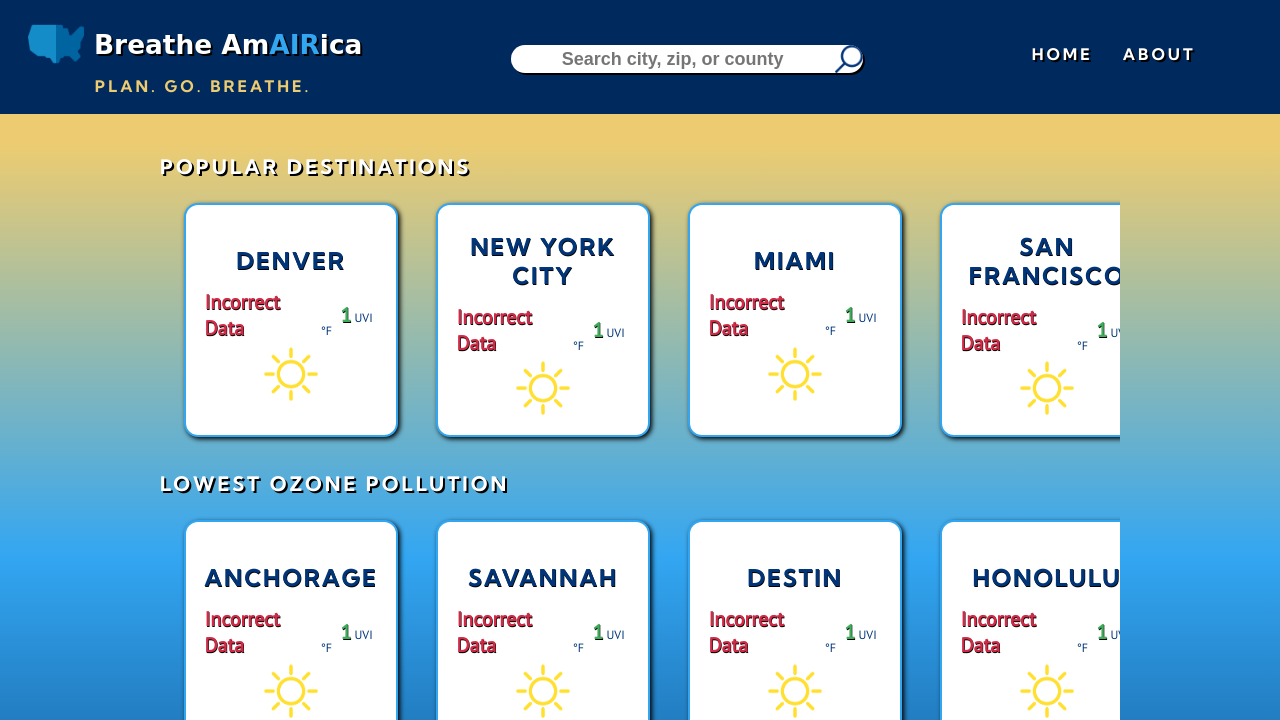
App › Should display details page when card is clicked
The width and height of the screenshot is (1280, 720).
What coordinates should you click on to do the following:
click the heading "Denver"
I would click on:
 (291, 261)
Its box is [236,246,346,275].
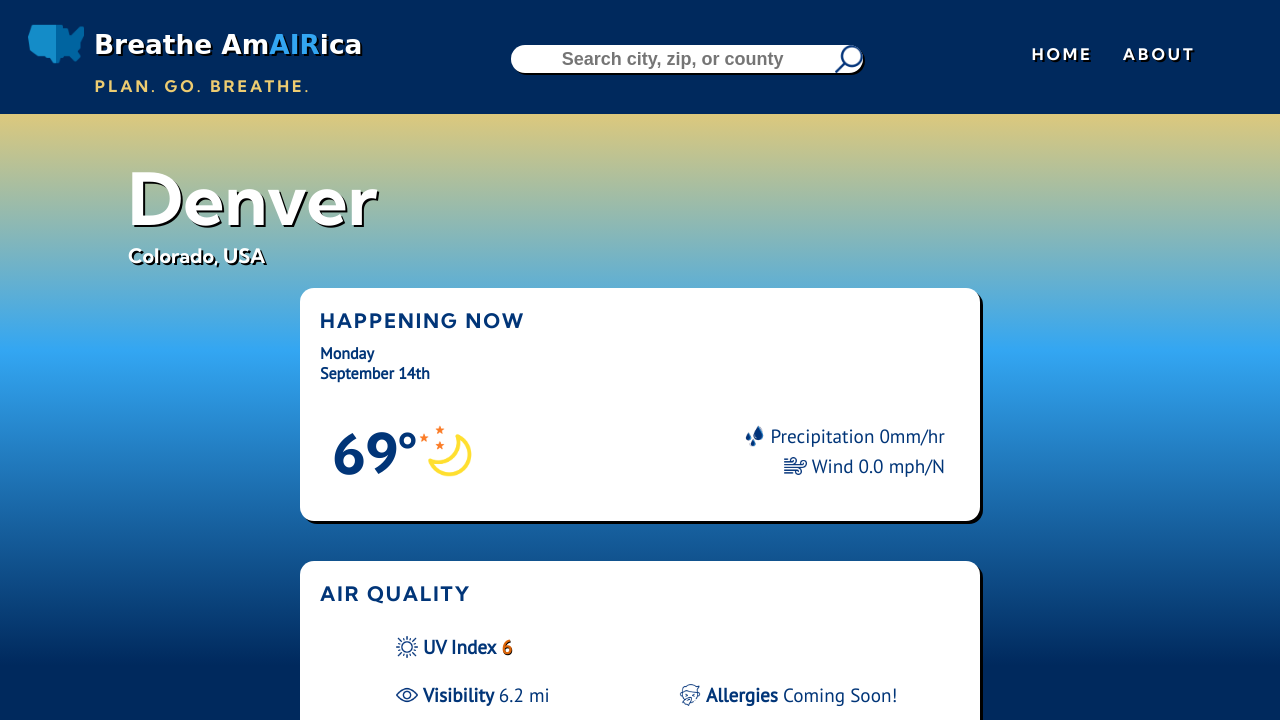
Now the heading "HAPPENING NOW" is shown, box [320,308,525,333]
Now the heading "69°" is shown, box [333,419,417,488]
Now the text "6.2 mi" is shown, box [499,682,550,707]
